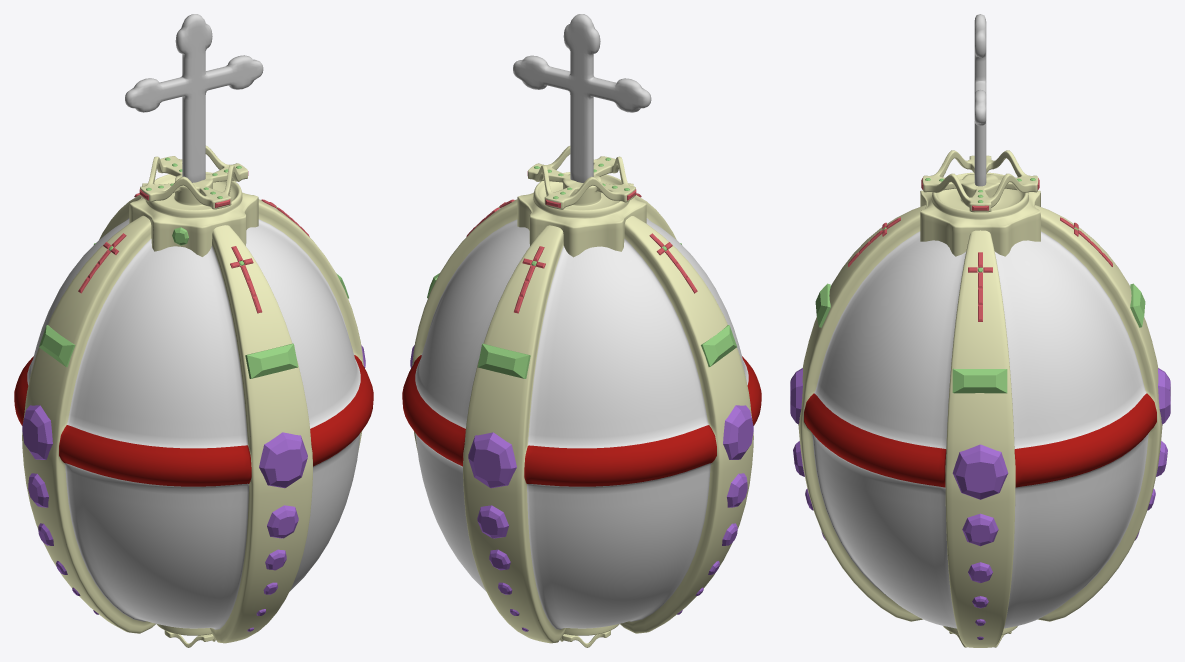
File: HolyGrenade.fbx
3 renders of one model, left to right at view 1: azimuth 30°, elevation 25°; view 2: azimuth 150°, elevation 25°; view 3: azimuth 270°, elevation 25°, orthographic.
Parts seen in each view (by area): view 1: Sphere.002; view 2: Sphere.002; view 3: Sphere.002.
Part boxes in pixels (box(x1,y1,x2,y2)): Sphere.002: box(14, 14, 373, 647); Sphere.002: box(402, 14, 761, 647); Sphere.002: box(790, 14, 1170, 647).
Bounding box in the file's own units: 20.57 × 37.5 × 20.65.
